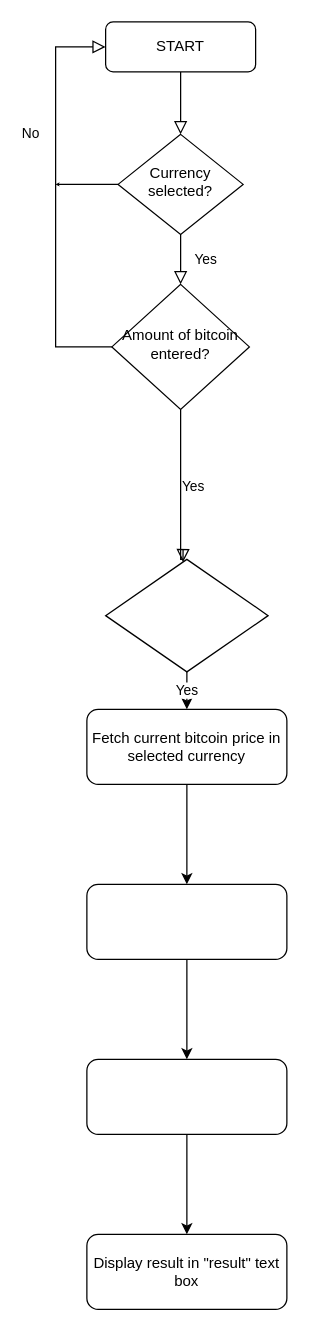
The diagram is 309 pixels wide and 1331 high, and some of its shapes have lost their labels. The shapes that lost their labels are listed below. From the top down, each one's centre as x and y in pixels, then its label:
point 186,615: Is "Get rates" button clicked?
point 186,921: Parse amount of bitcoin to a numeric value
point 186,1096: Multiply bitcoin amount by it's price
